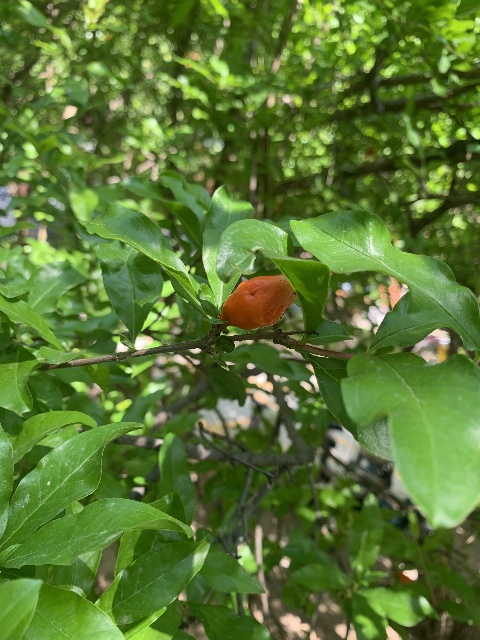bud: (220, 274, 296, 329)
